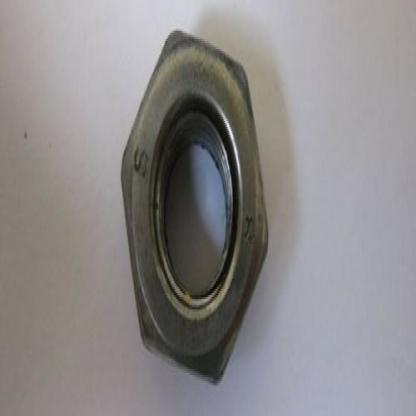FOD: (118, 25, 272, 393)
